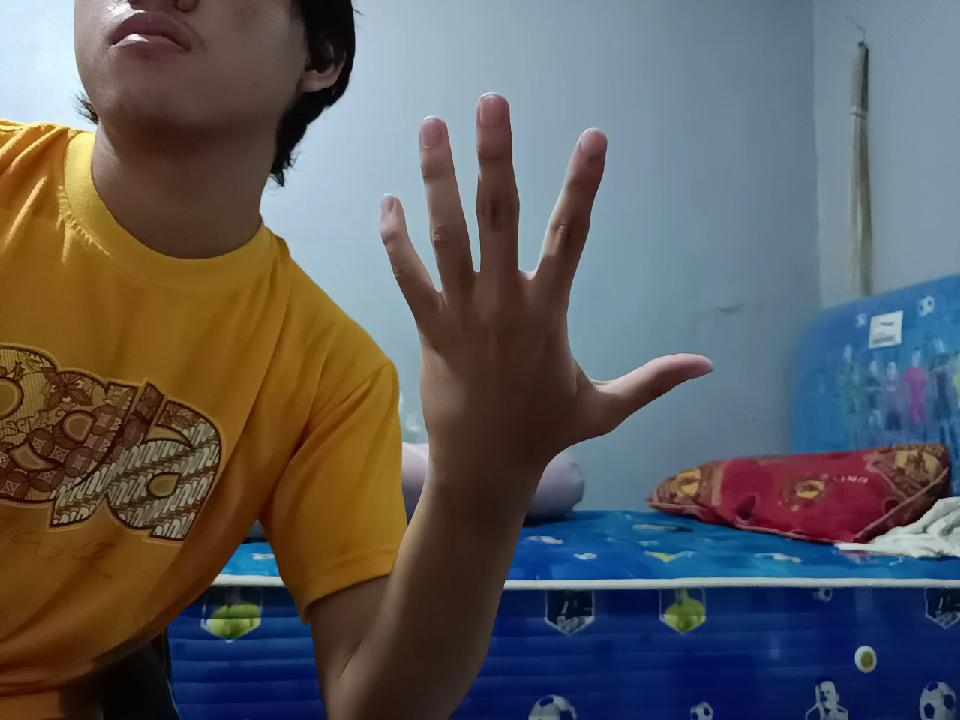paper: (392, 99, 680, 482)
